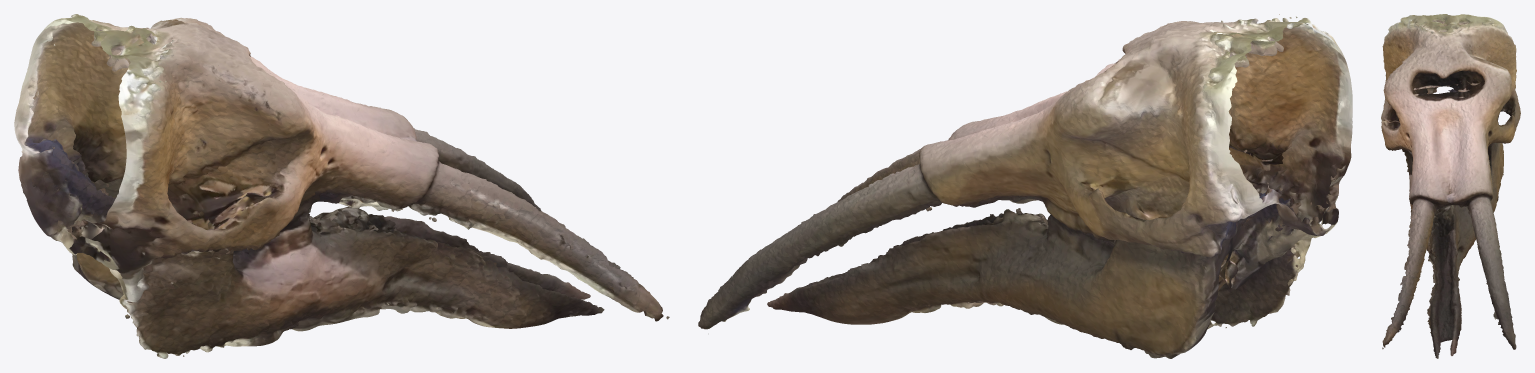
The model's file is sf-gomphothere-skull-c2c29d.glb.
3 views of the same model, side by side, from view 1: azimuth 30°, elevation 25°; view 2: azimuth 150°, elevation 25°; view 3: azimuth 270°, elevation 25° (orthographic). The views are drawn at different scales.
Visible parts, largest first — view 1: Object_2; view 2: Object_2; view 3: Object_2.
Part boxes in pixels (x1=…): Object_2: x1=14, y1=14, x2=669, y2=358; Object_2: x1=698, y1=14, x2=1352, y2=358; Object_2: x1=1381, y1=14, x2=1520, y2=358.
Bounding box in the file's own units: 3.82 × 2.49 × 1.48.
Materials: 1 (1 with a texture image).
